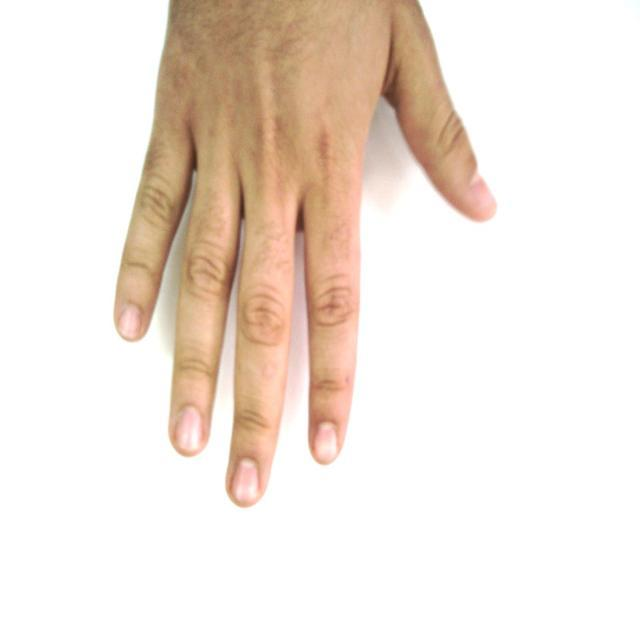Fingernail: (176, 407, 202, 451), (234, 459, 258, 504), (314, 423, 337, 462), (471, 178, 495, 211), (120, 307, 142, 338)
